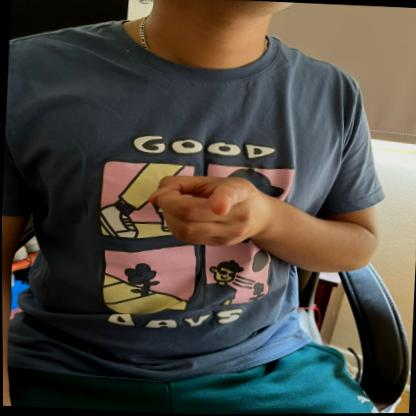X: (146, 165, 267, 257)
